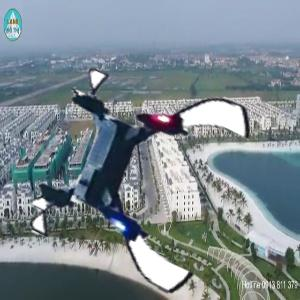drone: (39, 68, 247, 276)
